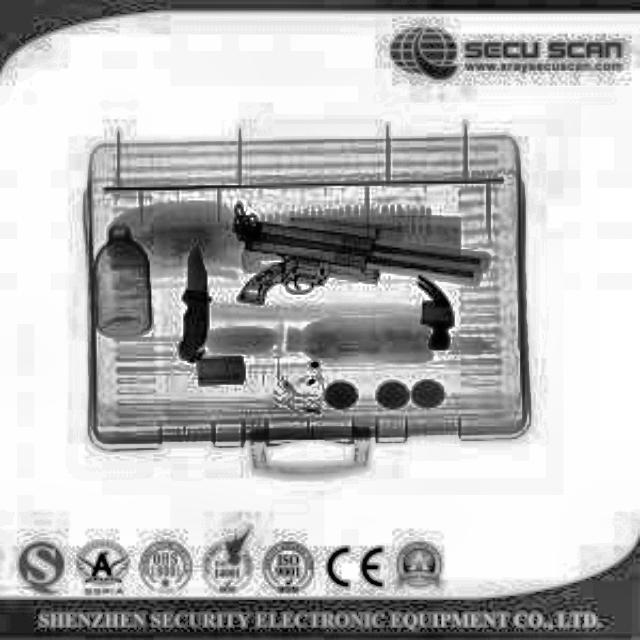Gun: (222, 210, 490, 304)
Knife: (174, 246, 212, 360)
